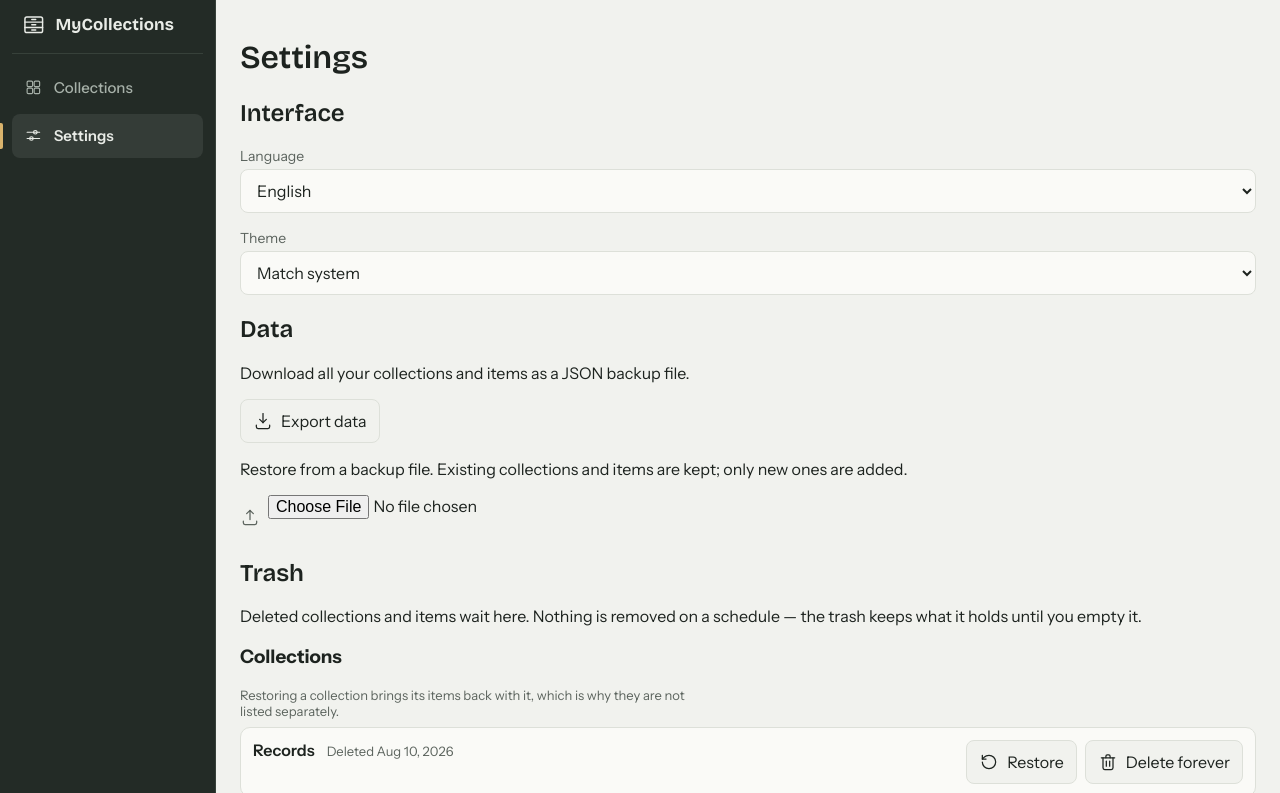
Test case: Settings trash restore › drops the row once the restore lands
What coordinates should you click on to do the following:
click the button "Restore"
I would click on:
 (1021, 762)
Its box is [966,740,1077,784].
(page scrolled)
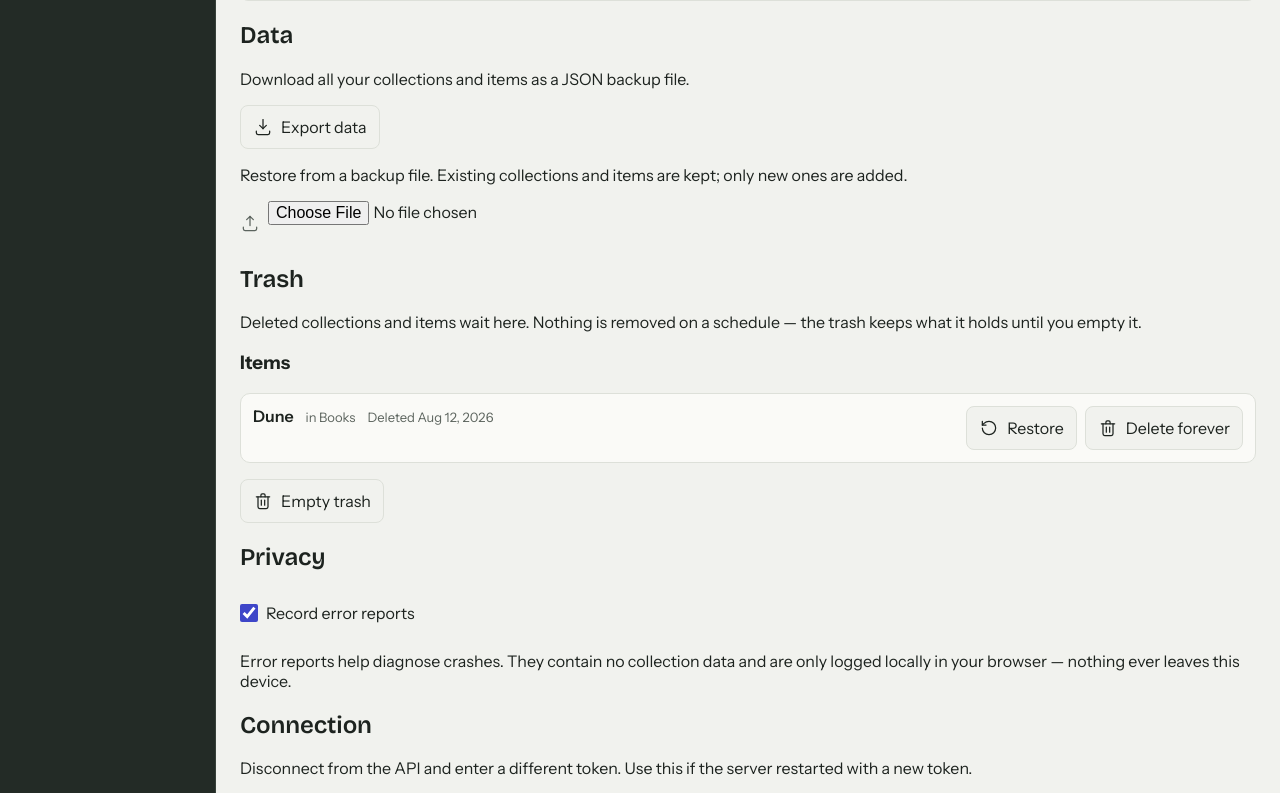
Check: the element "Trash" no longer shows "Records", box [240,264,1256,523]
